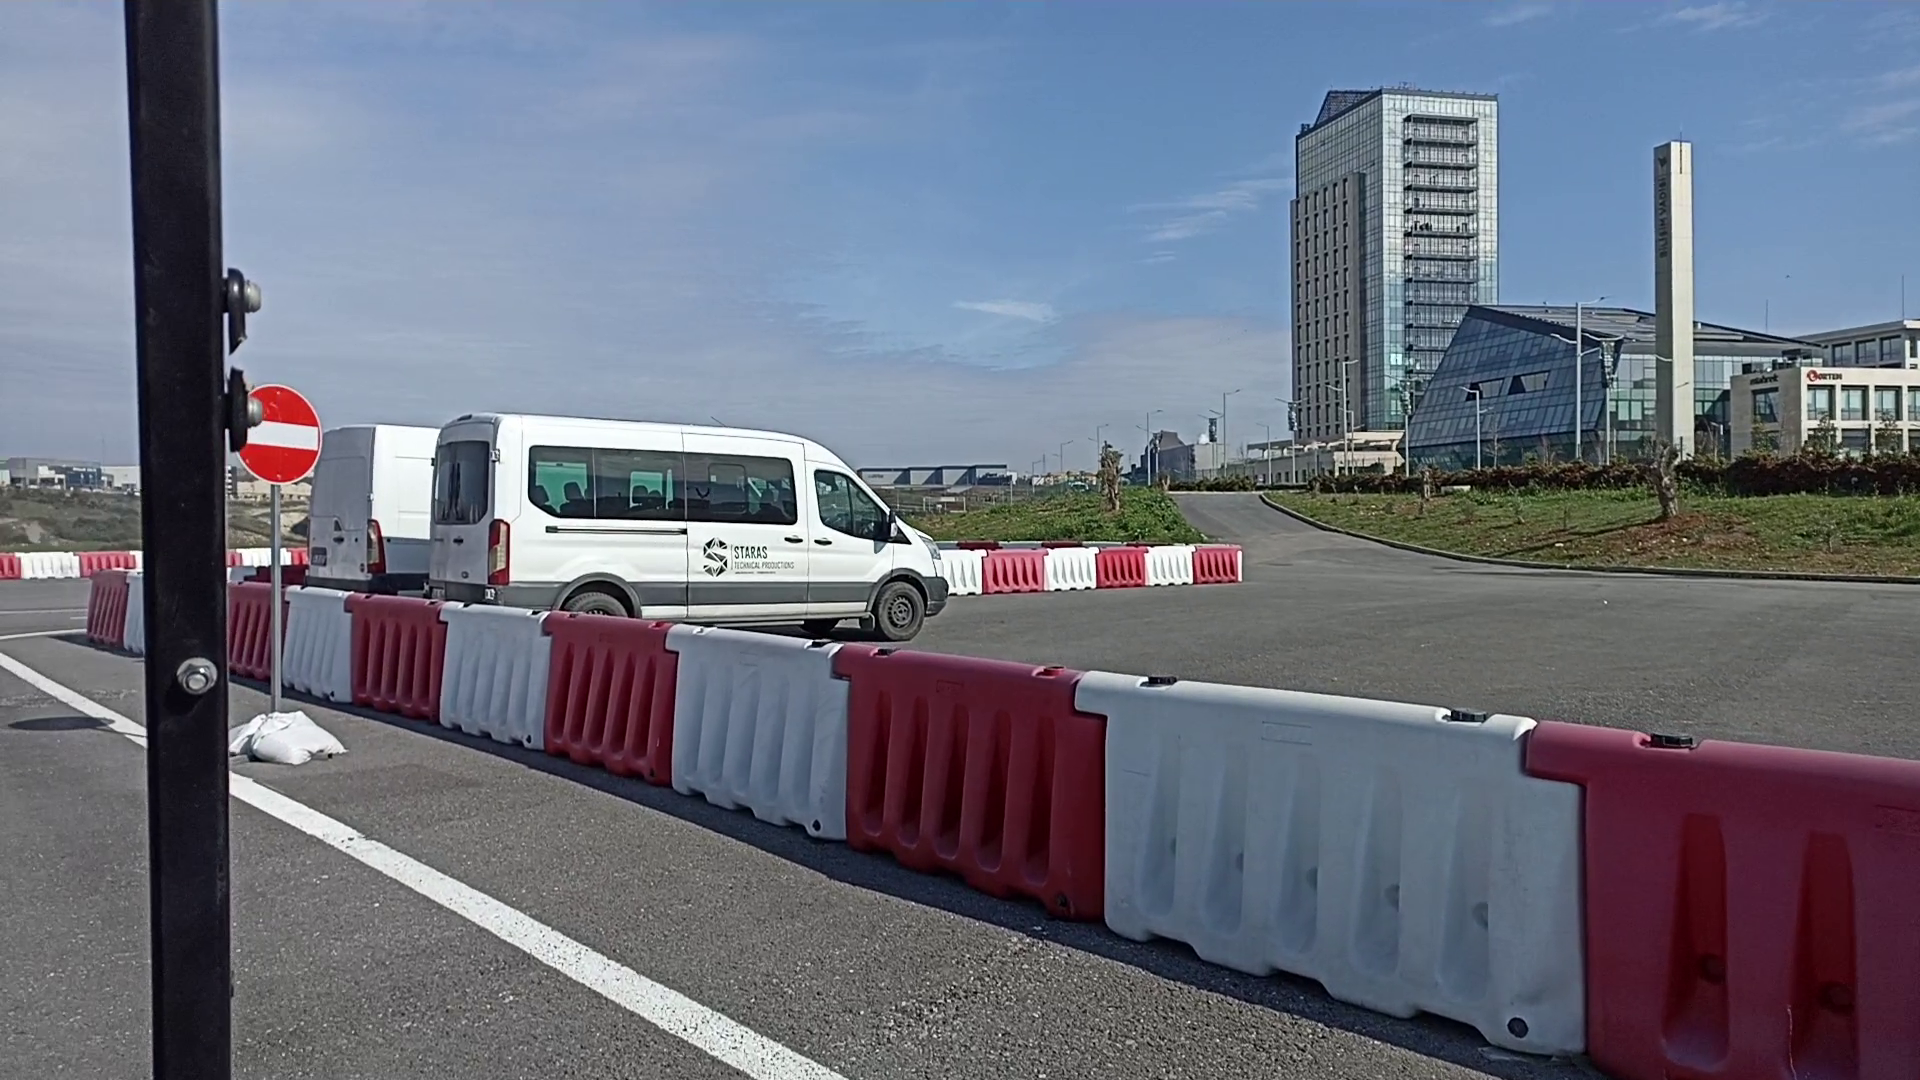noentryway: (229, 381, 323, 487)
